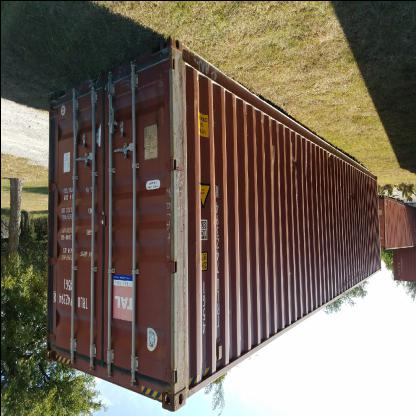Damage: (160, 183, 178, 253), (288, 140, 301, 204), (266, 141, 277, 175), (322, 150, 334, 172), (343, 186, 355, 206)
